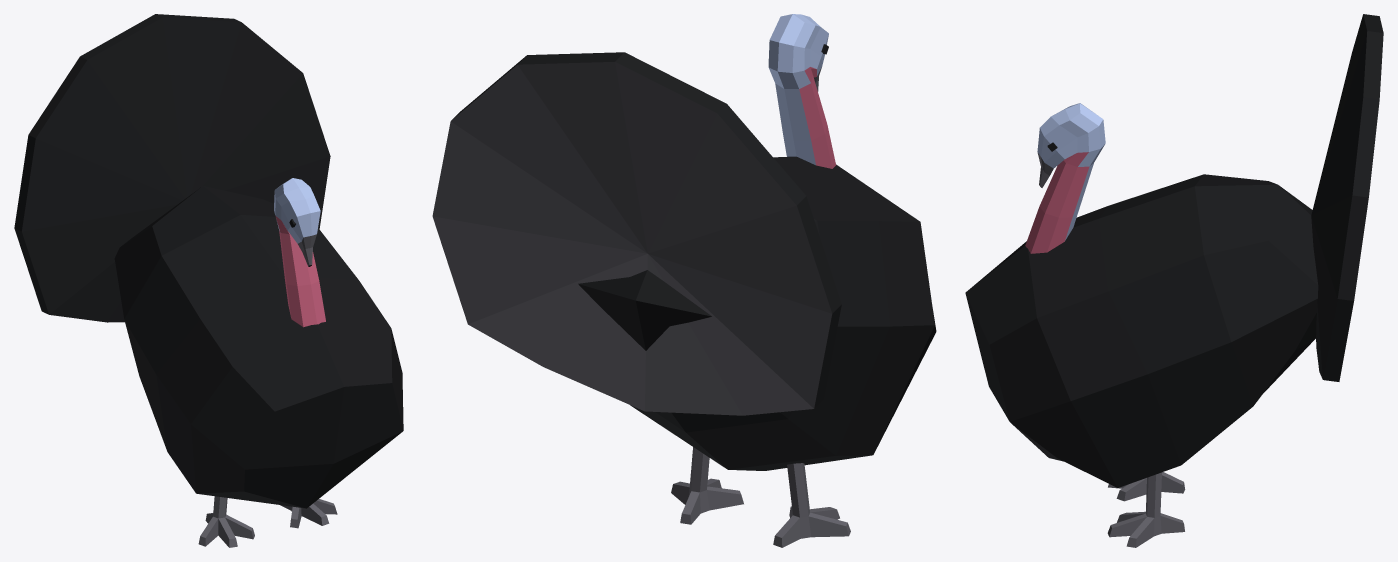
The picture shows the model from 3 angles, left to right: view 1: azimuth 30°, elevation 25°; view 2: azimuth 150°, elevation 25°; view 3: azimuth 270°, elevation 25°; orthographic projection. The views are drawn at different scales.
Parts seen in each view (by area): view 1: Geo_Turkey; view 2: Geo_Turkey; view 3: Geo_Turkey.
Boxes of the visible parts, bbox=[...] form: Geo_Turkey: bbox=[14, 14, 403, 547]; Geo_Turkey: bbox=[432, 14, 936, 547]; Geo_Turkey: bbox=[965, 14, 1383, 547].
Size of the model in its own units: 71.18 by 95.51 by 75.46.
Materials: 1 (1 with a texture image).
